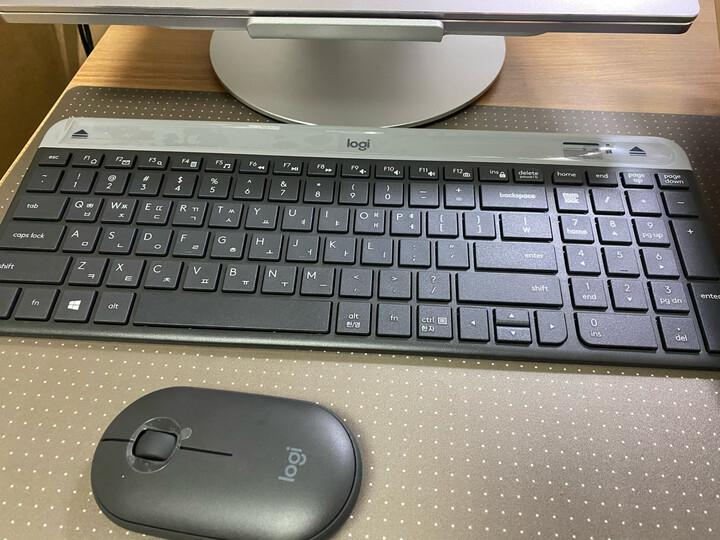keyboard: (0, 116, 719, 370)
mouse: (89, 385, 362, 539)
